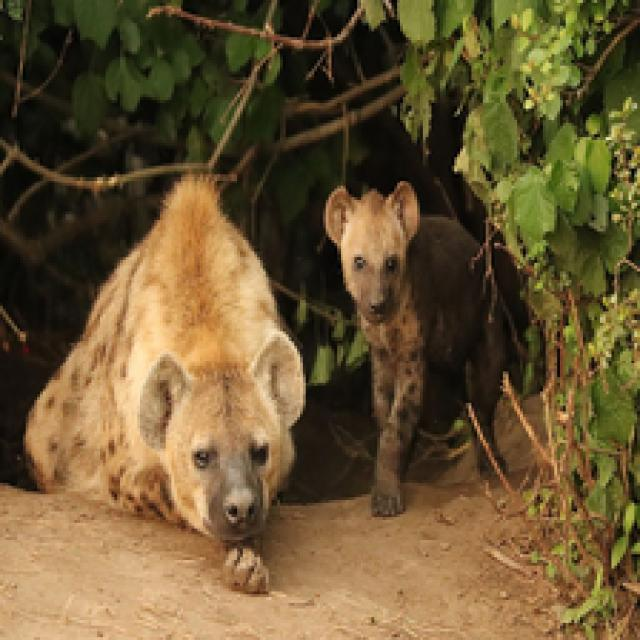hyena: (11, 158, 327, 591), (301, 182, 538, 502)
